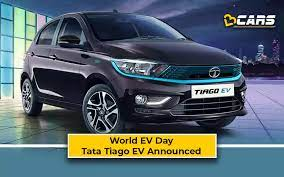Tiago: (18, 8, 249, 139)
